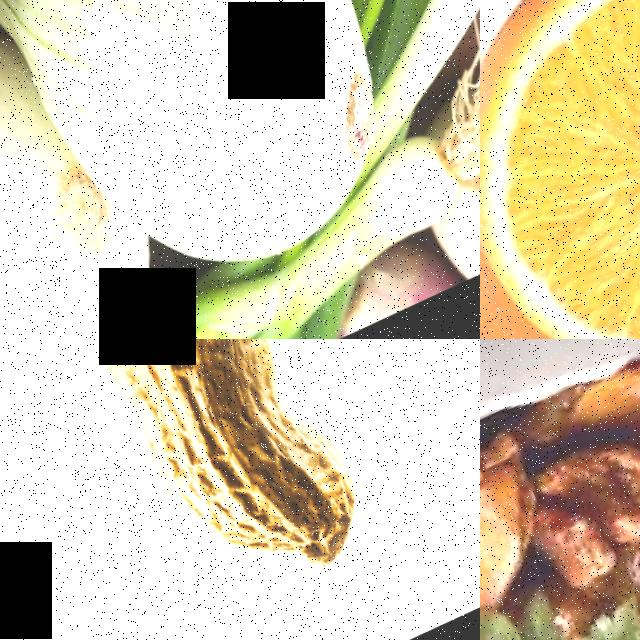onion: (0, 0, 428, 326), (0, 74, 171, 339)
orange: (480, 0, 640, 339), (480, 95, 587, 339)
peanuts: (63, 339, 386, 637)
